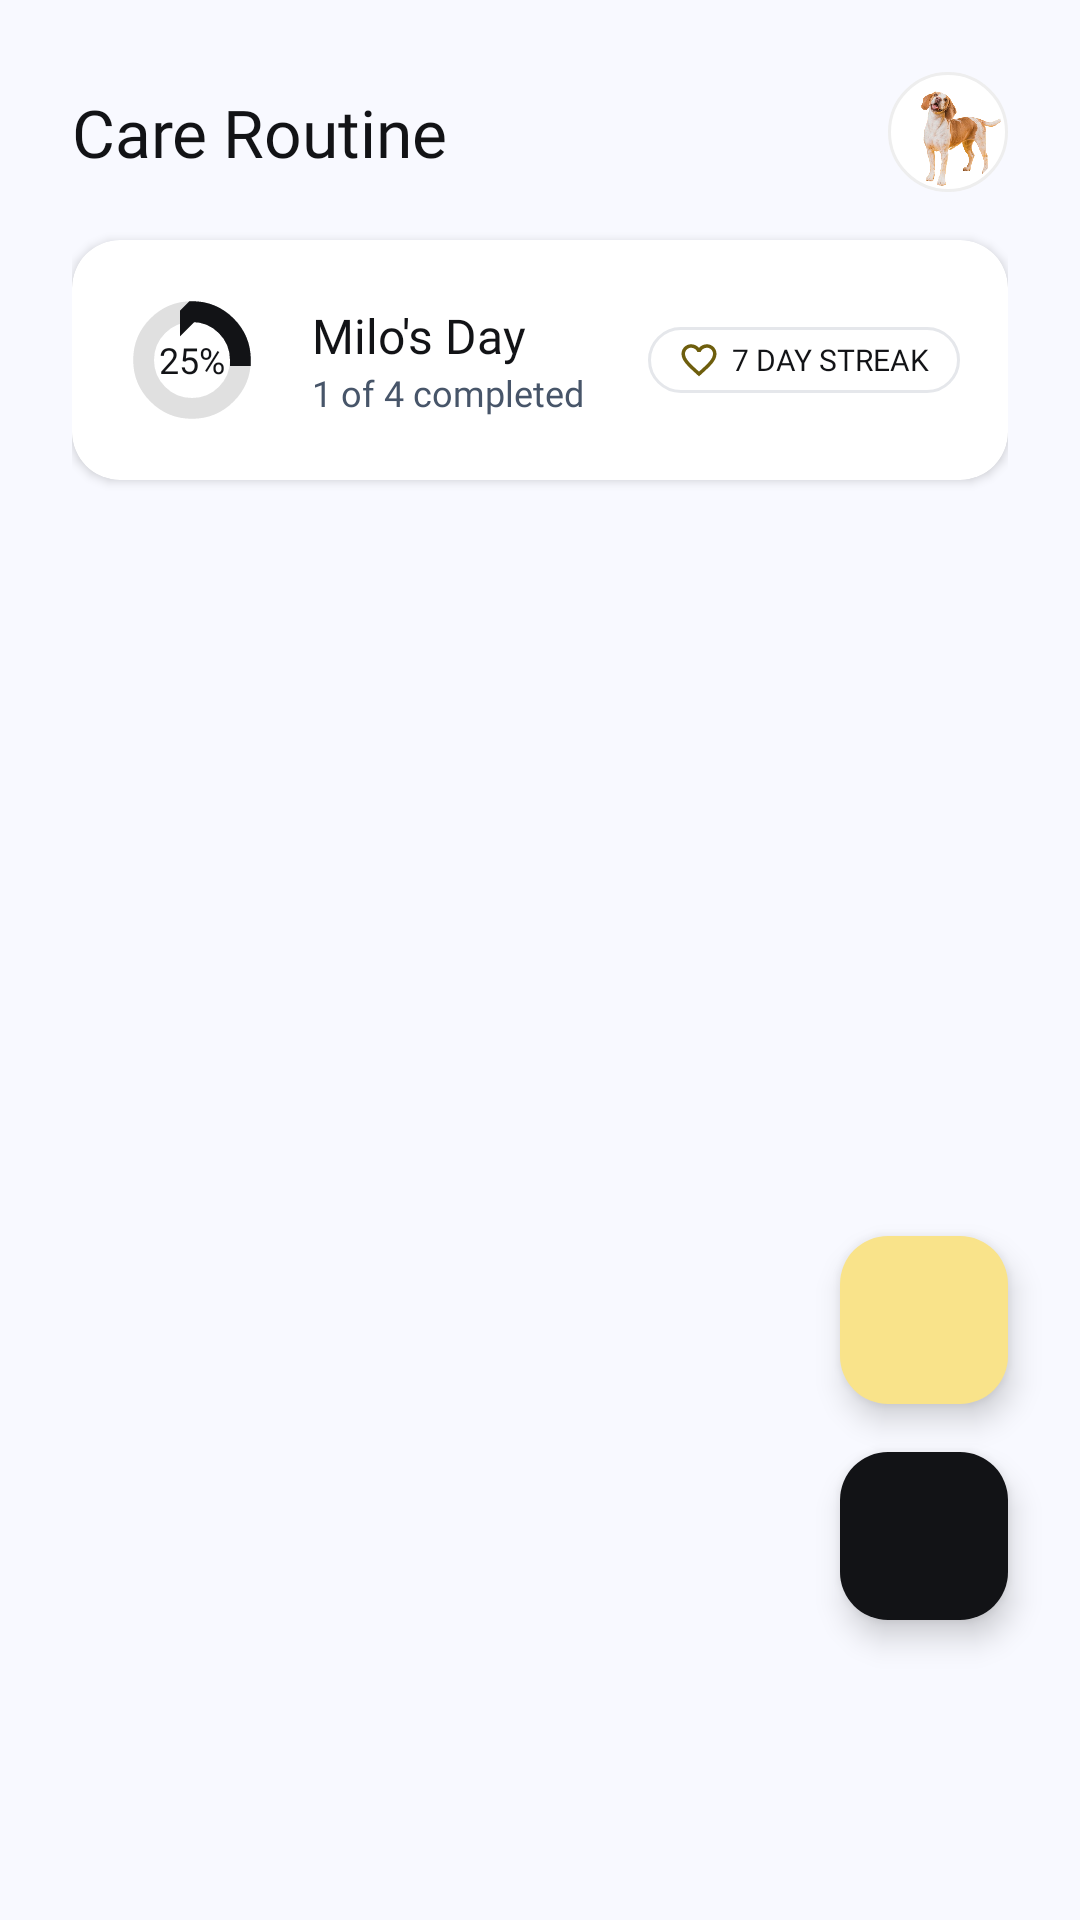

Screen size 1080 x 1920. Icon name, then its center in pixels as (x=x, y=y):
dog: (x=961, y=138)
favorite border: (x=699, y=360)
